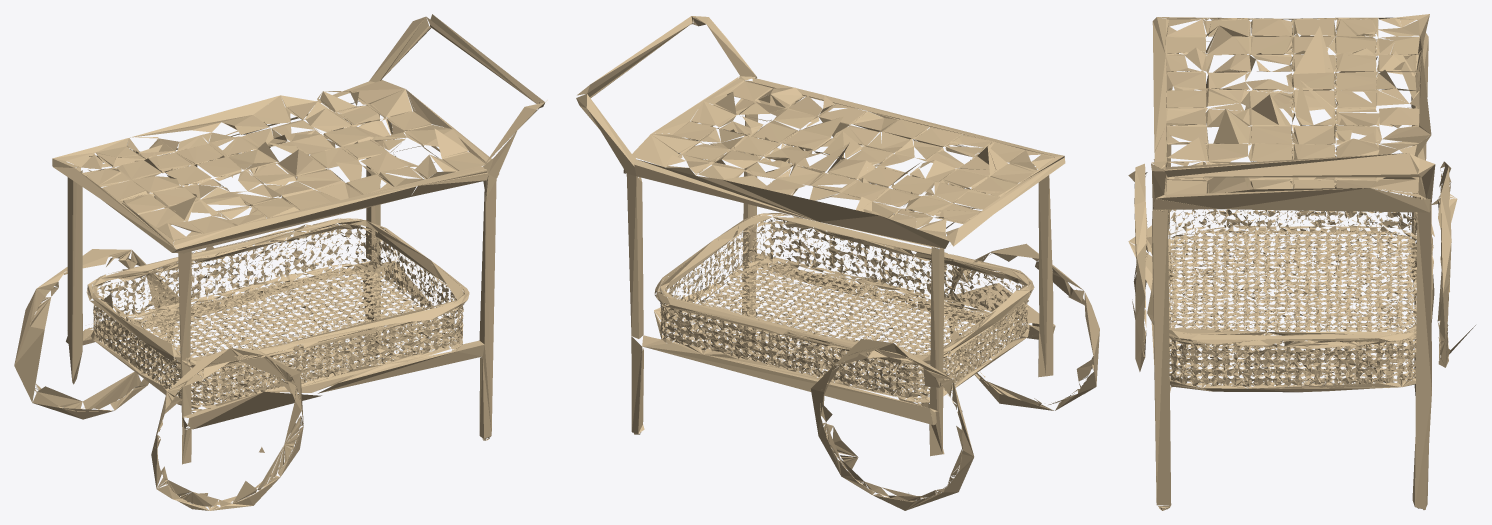
Rendered from gen-tea-trolley-bent-birch-1.glb.
The picture shows the model from 3 angles, left to right: view 1: azimuth 30°, elevation 25°; view 2: azimuth 150°, elevation 25°; view 3: azimuth 270°, elevation 25°; orthographic projection. The views are drawn at different scales.
Visible parts, largest first — view 1: gen-tea-trolley-bent-birch-1_part1; view 2: gen-tea-trolley-bent-birch-1_part1; view 3: gen-tea-trolley-bent-birch-1_part1.
Boxes of the visible parts, x1,y1,x2,y2 form: gen-tea-trolley-bent-birch-1_part1: [14, 14, 547, 510]; gen-tea-trolley-bent-birch-1_part1: [576, 16, 1099, 510]; gen-tea-trolley-bent-birch-1_part1: [1128, 14, 1475, 510].
Size of the model in its own units: 771 by 600 by 490.
